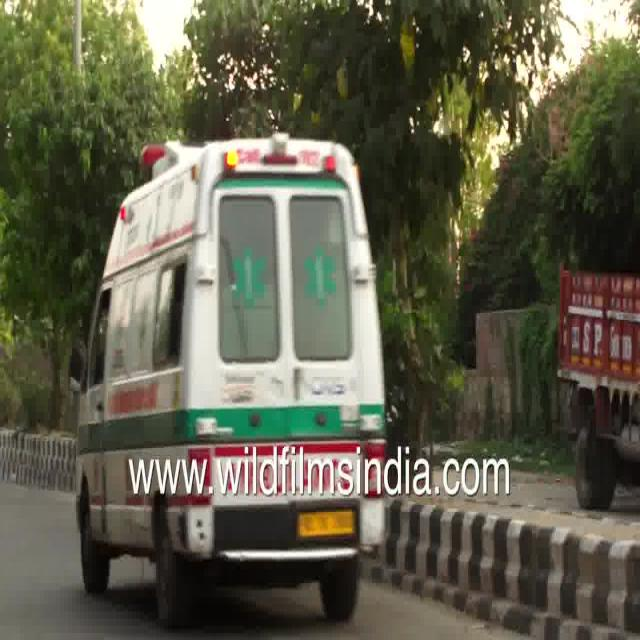ambulance: (58, 112, 386, 453)
